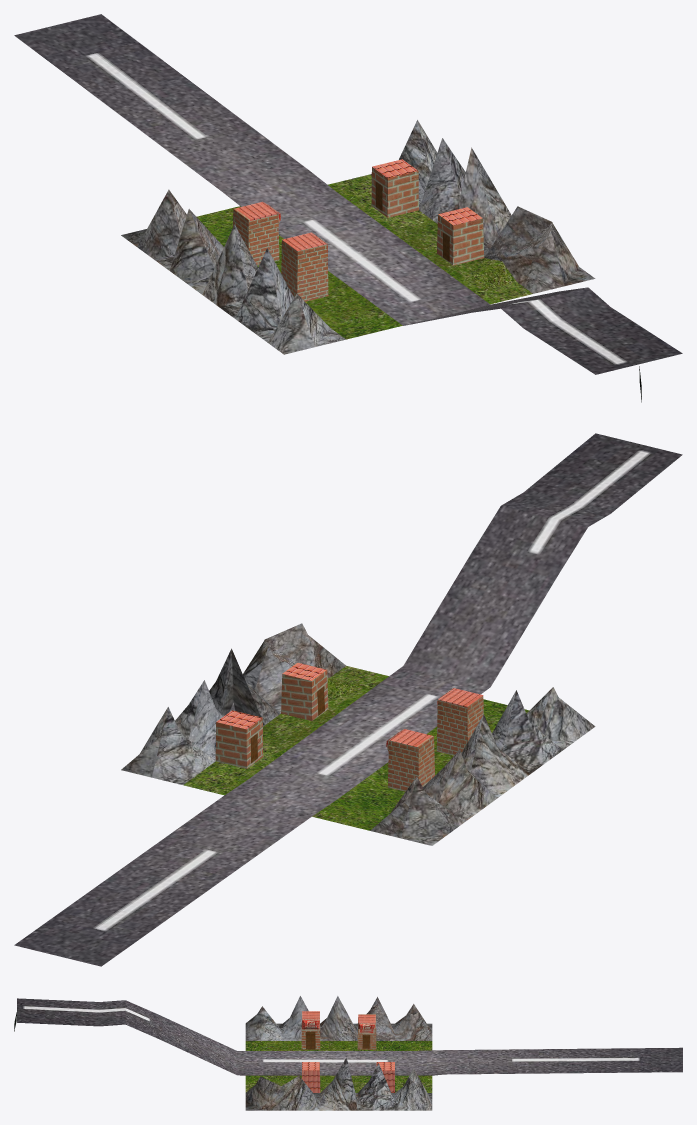
Rendered from CityMap.FBX.
3 views of the same model, one above another, from view 1: azimuth 30°, elevation 25°; view 2: azimuth 150°, elevation 25°; view 3: azimuth 270°, elevation 25° (orthographic). The views are drawn at different scales.
Visible parts, largest first — view 1: Plane002; view 2: Plane002; view 3: Plane002.
Part boxes in pixels (box(x1,y1,x2,y2)): Plane002: box(14, 14, 682, 402); Plane002: box(14, 433, 682, 966); Plane002: box(14, 996, 682, 1110).
Size of the model in its own units: 163 by 528 by 51.87.
